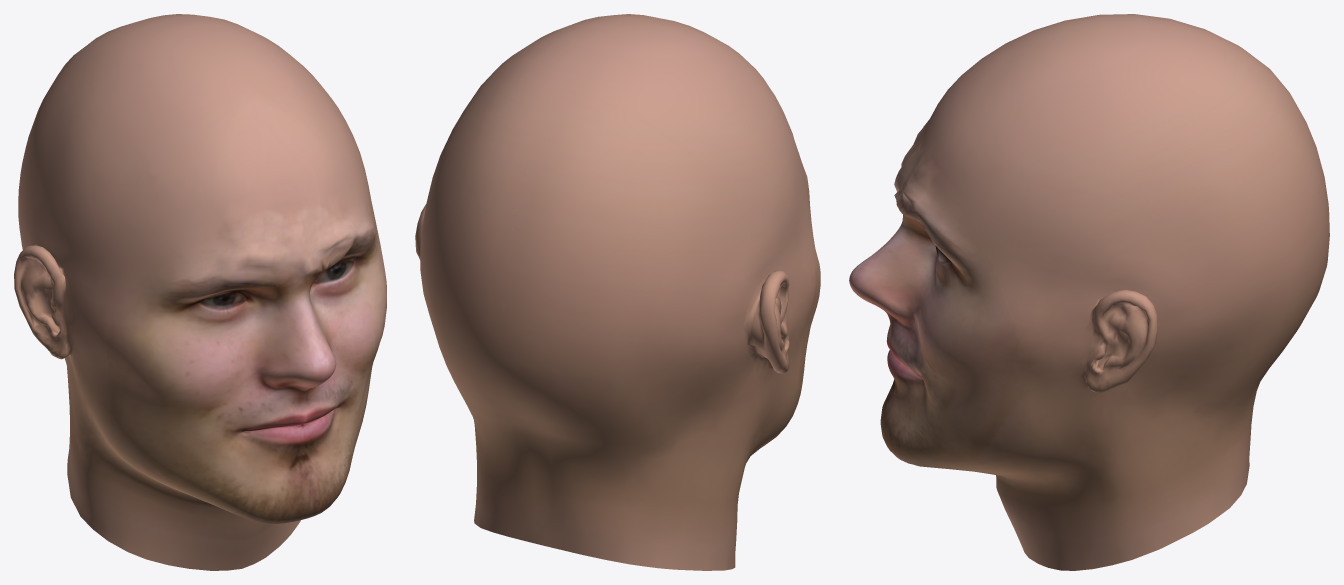
Rendered from Batya.fbx.
3 views of the same model, side by side, from view 1: azimuth 30°, elevation 25°; view 2: azimuth 150°, elevation 25°; view 3: azimuth 270°, elevation 25° (orthographic). The views are drawn at different scales.
Visible parts, largest first — view 1: Surf0; view 2: Surf0; view 3: Surf0.
Part boxes in pixels (x1,y1,x2,y2): Surf0: (14,14,386,570); Surf0: (415,14,820,570); Surf0: (849,14,1329,570).
Bounding box in the file's own units: 196 × 283 × 238.
